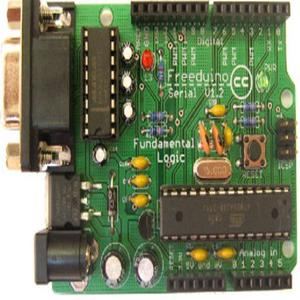duino: (31, 2, 300, 292)
